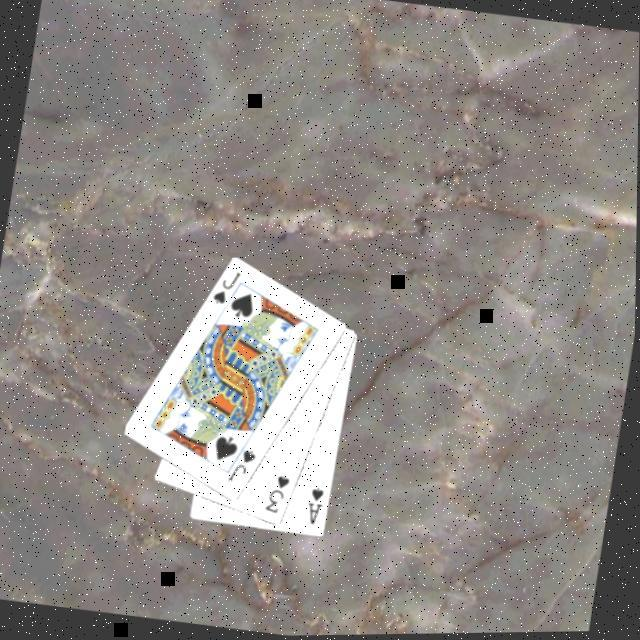3S: (264, 474, 296, 520)
AS: (304, 486, 332, 532)
JS: (227, 447, 263, 491), (211, 269, 247, 313)
